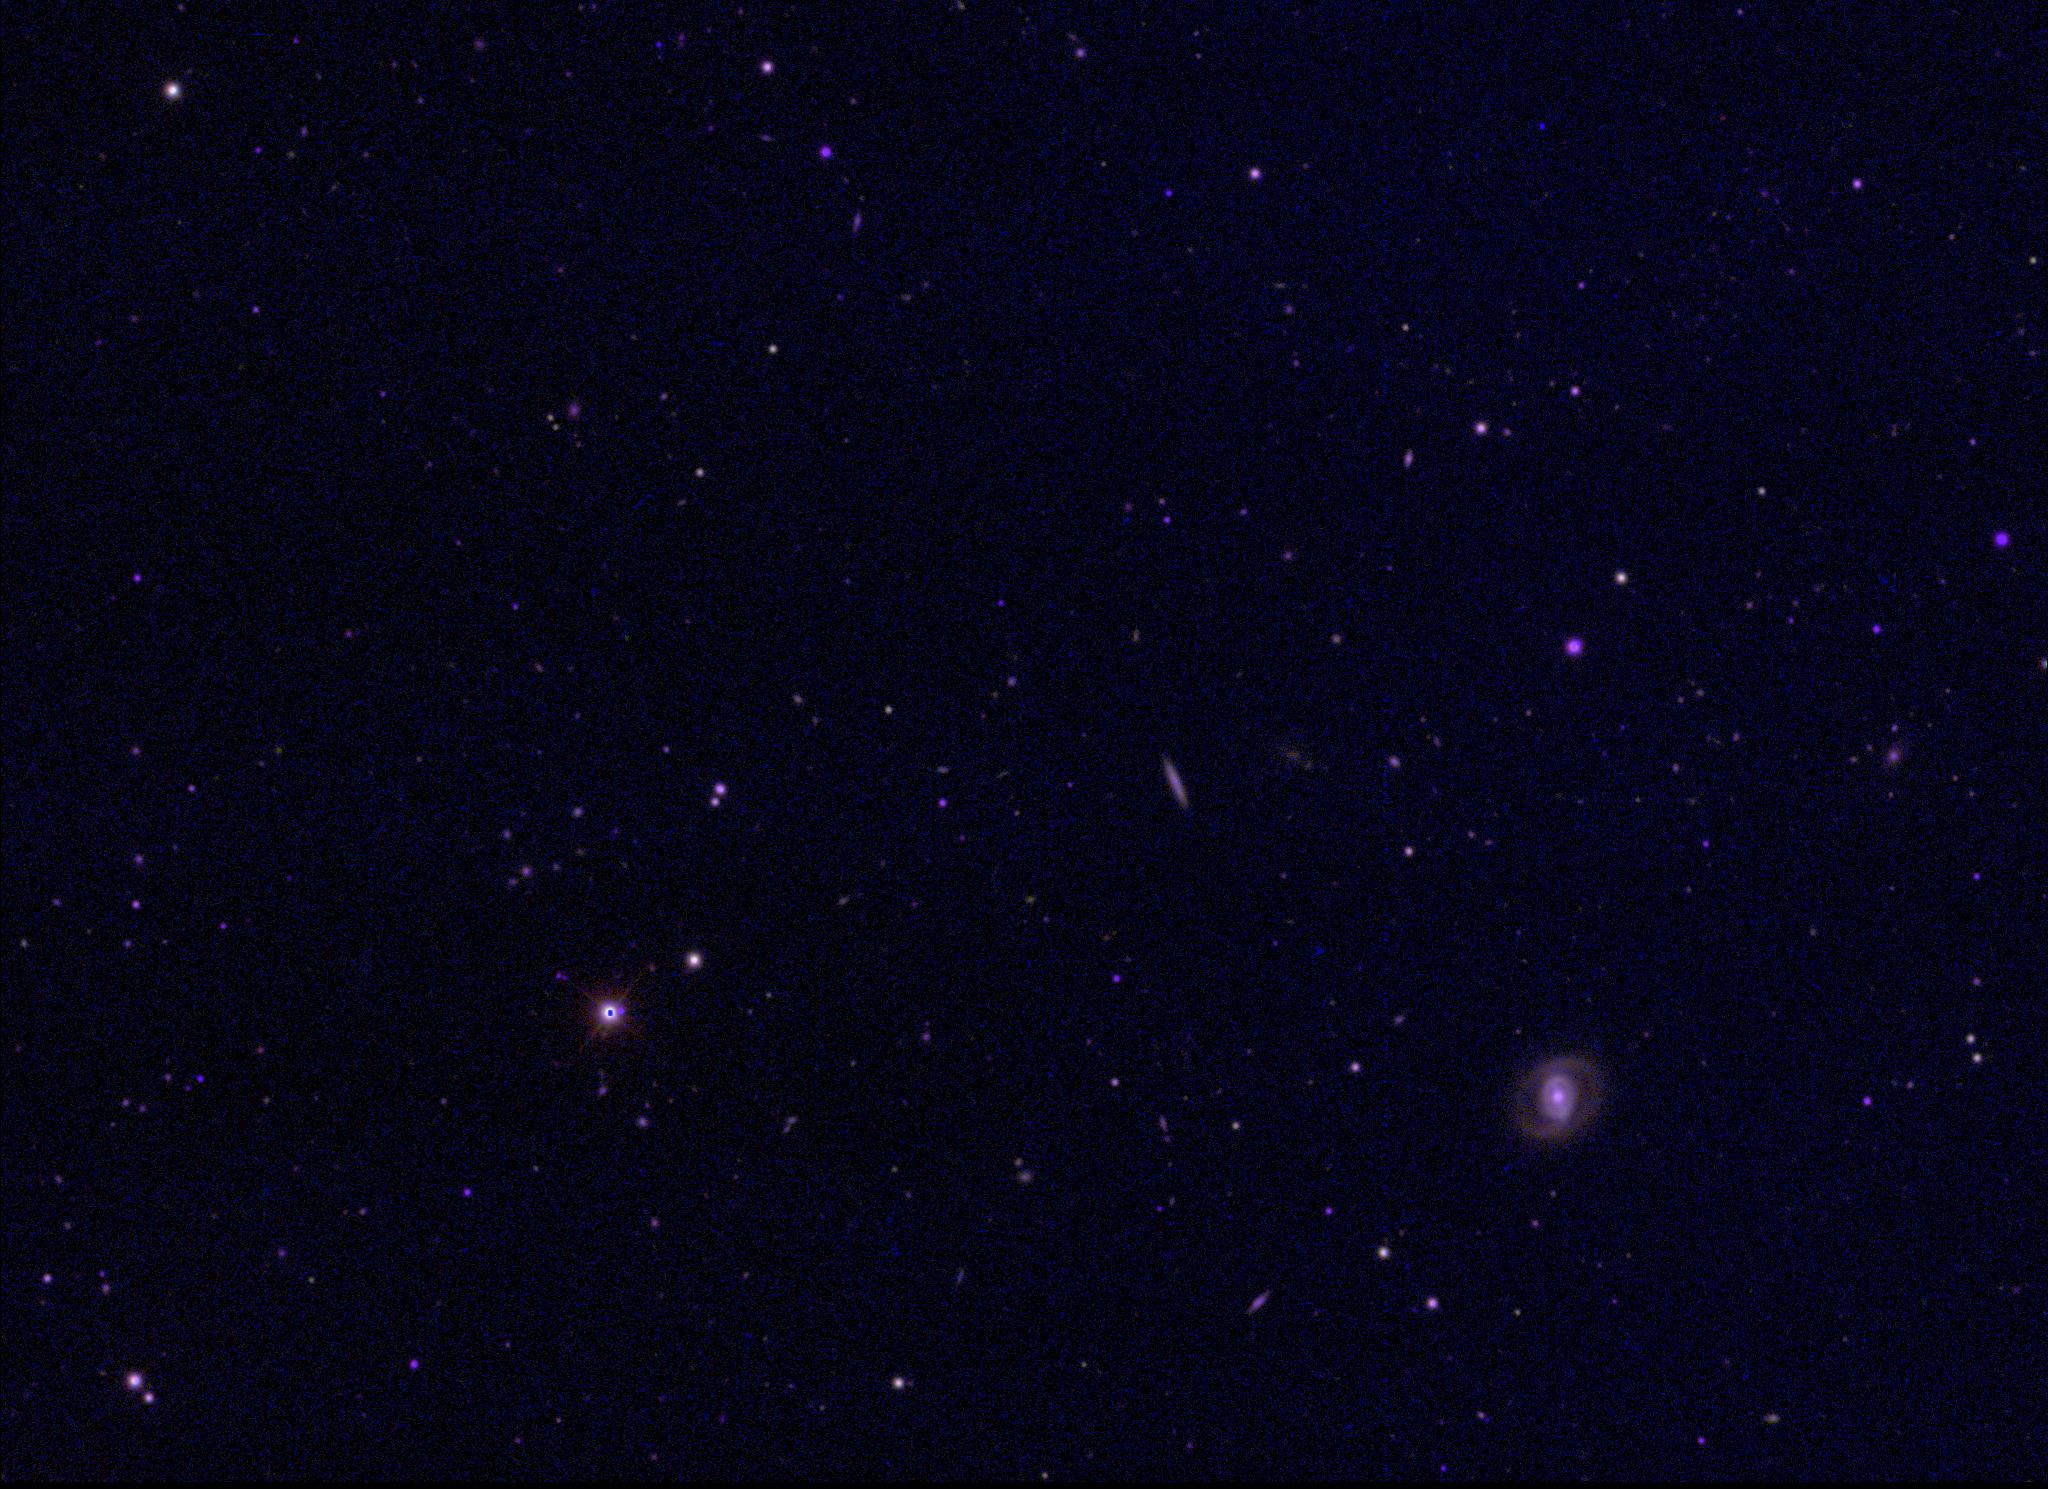L: (1536, 119, 1550, 134)
